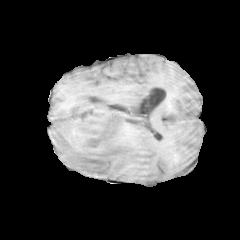glioma: (51, 97, 151, 172)
